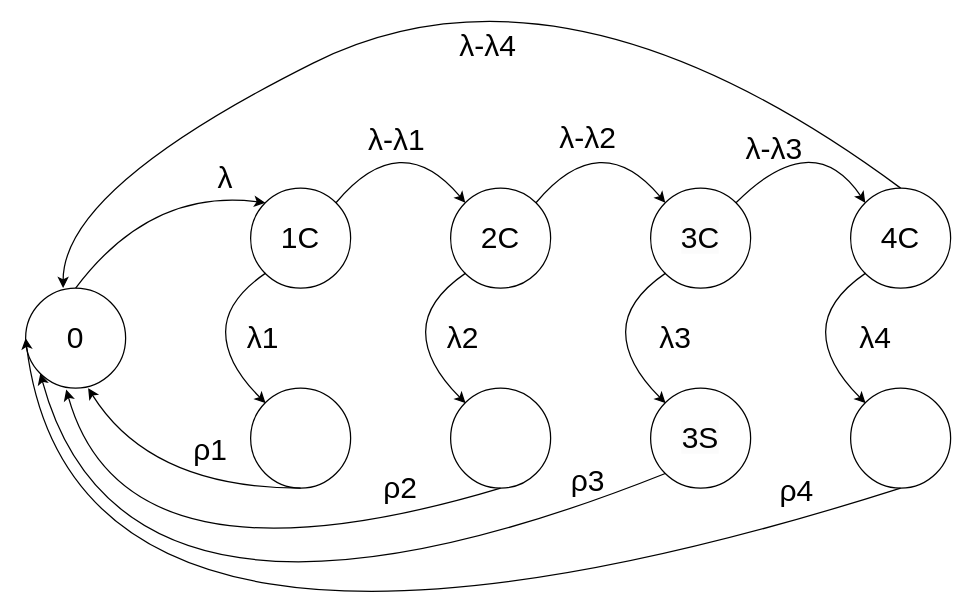
Image size: 973x614. Some labels were removed from this diagram. The shapes that lost their labels are listed below. From the top down, each one's centre as x and y in pixels, then its label:
At (x=300, y=437): "1S".
At (x=500, y=437): "2S".
At (x=900, y=437): "4S".
